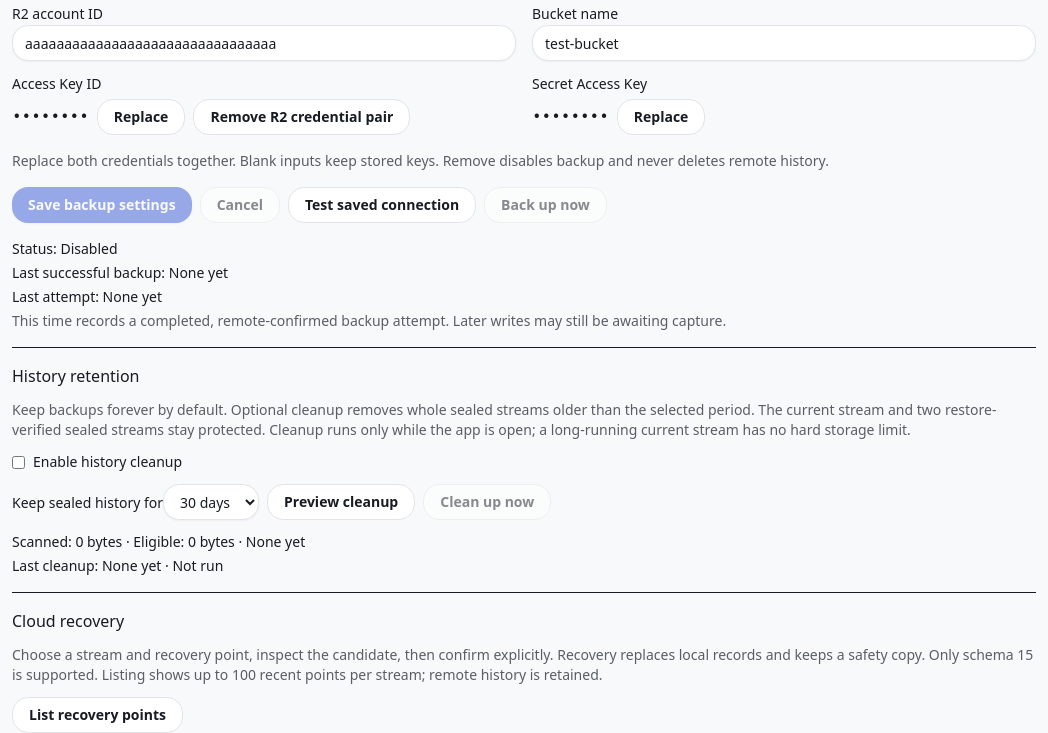
Test: continuous backup settings › treats empty or failed discovery as no restoration
(page scrolled)
Step 1. Click the button "List recovery points" → (98, 715), box [12,697,183,732]
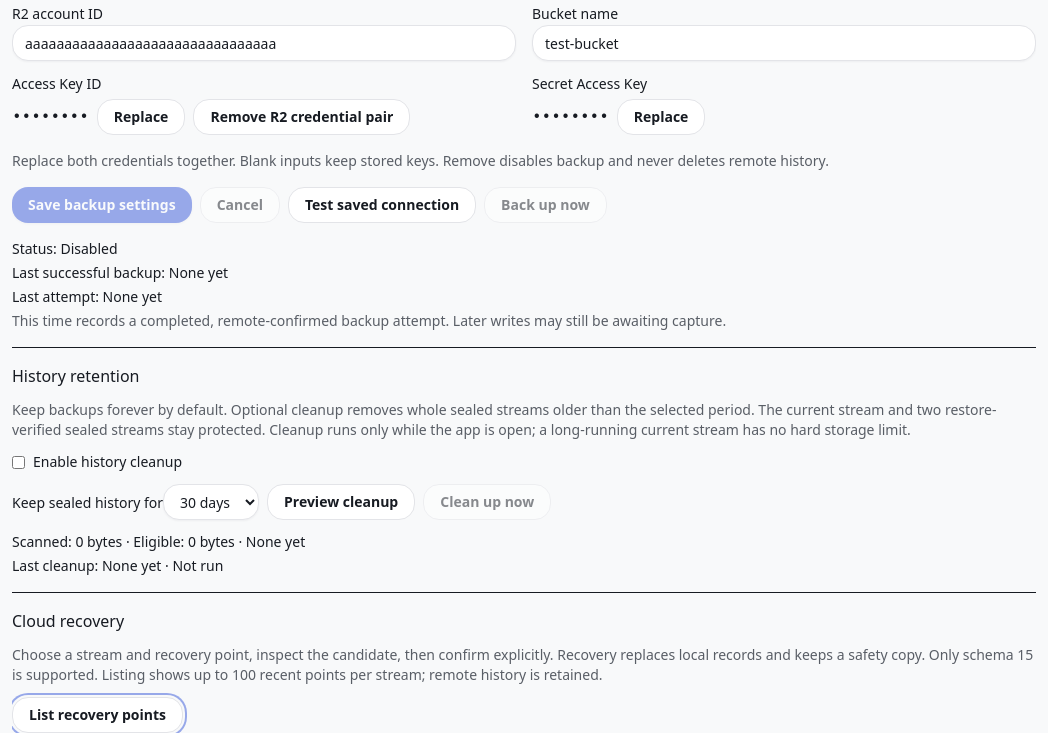
Step 2. Click the button "List recovery points" → (98, 715), box [12,697,183,732]
(page scrolled)
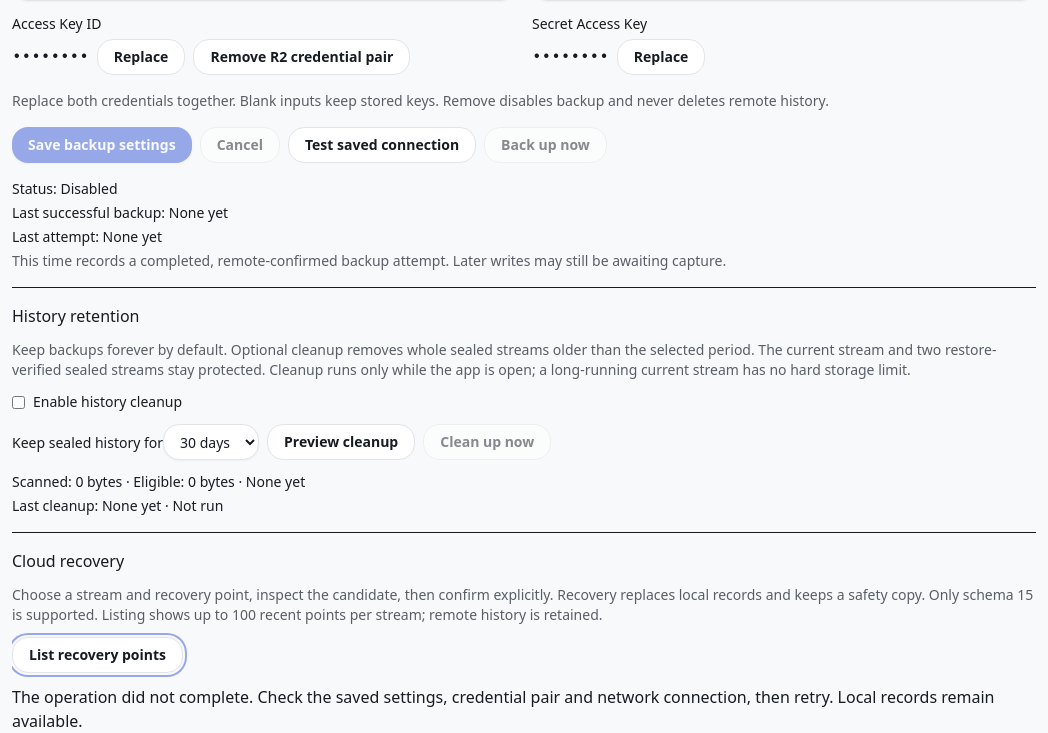
Expected: the 3rd message is shown, [12,685,1036,732]
